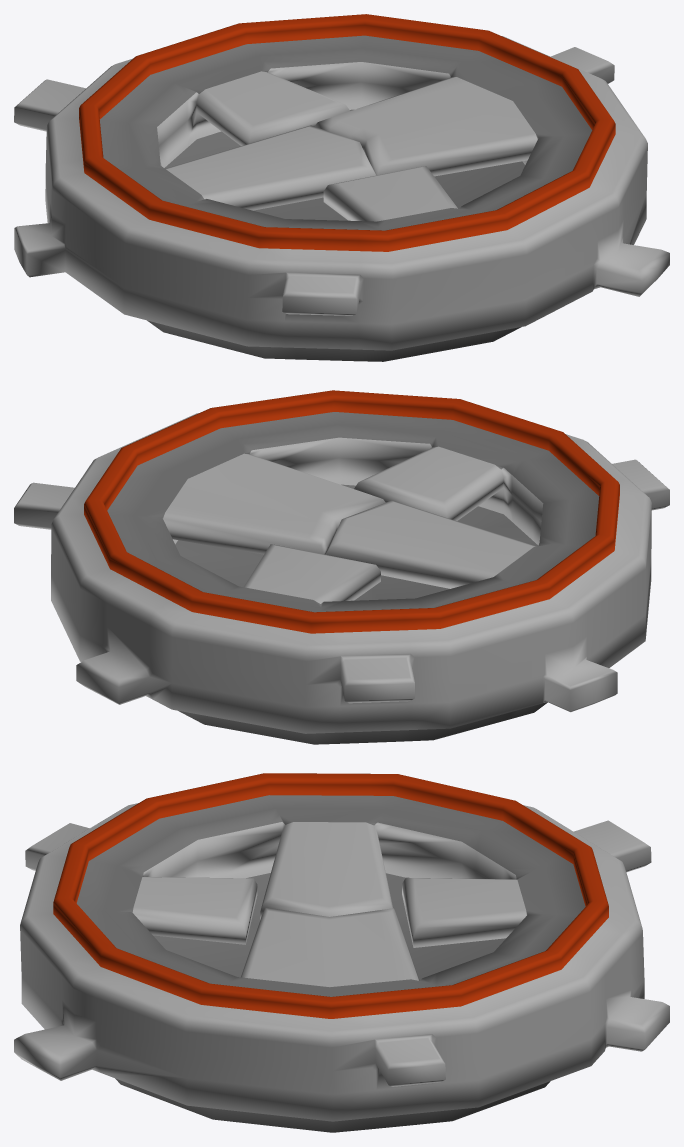
Rendered from DockPlatform_New.fbx.
3 views of the same model, one above another, from view 1: azimuth 30°, elevation 25°; view 2: azimuth 150°, elevation 25°; view 3: azimuth 270°, elevation 25° (orthographic). The views are drawn at different scales.
Parts seen in each view (by area): view 1: NewDockPlatform; view 2: NewDockPlatform; view 3: NewDockPlatform.
Boxes of the visible parts, box(x1,y1,x2,y2) form: NewDockPlatform: box(14, 14, 669, 361); NewDockPlatform: box(14, 390, 669, 744); NewDockPlatform: box(14, 773, 669, 1132).
Bounding box in the file's own units: 3.24 × 0.7615 × 3.03.
